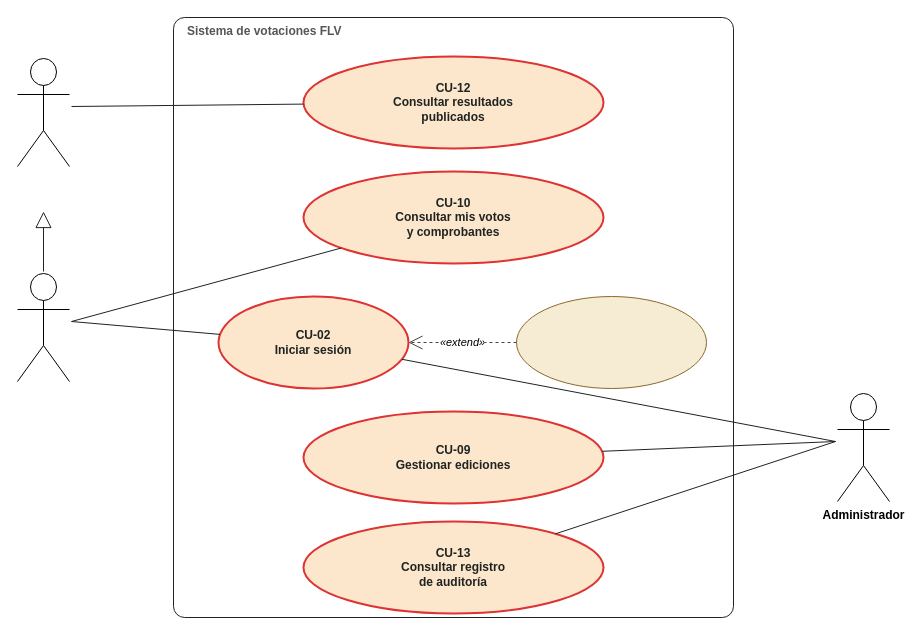
Image size: 922x635. Some labels were removed from this diagram. Each missing label, with the centre of its shape:
CU-11 Recuperar contraseña: (x=611, y=342)
Visitante: (x=43, y=112)
Votante: (x=43, y=327)
